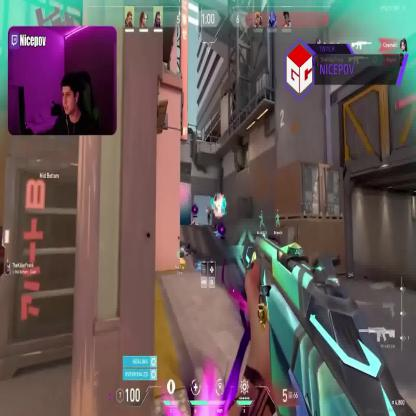enemy: (206, 206, 212, 223)
enemy_head: (208, 206, 210, 211)
